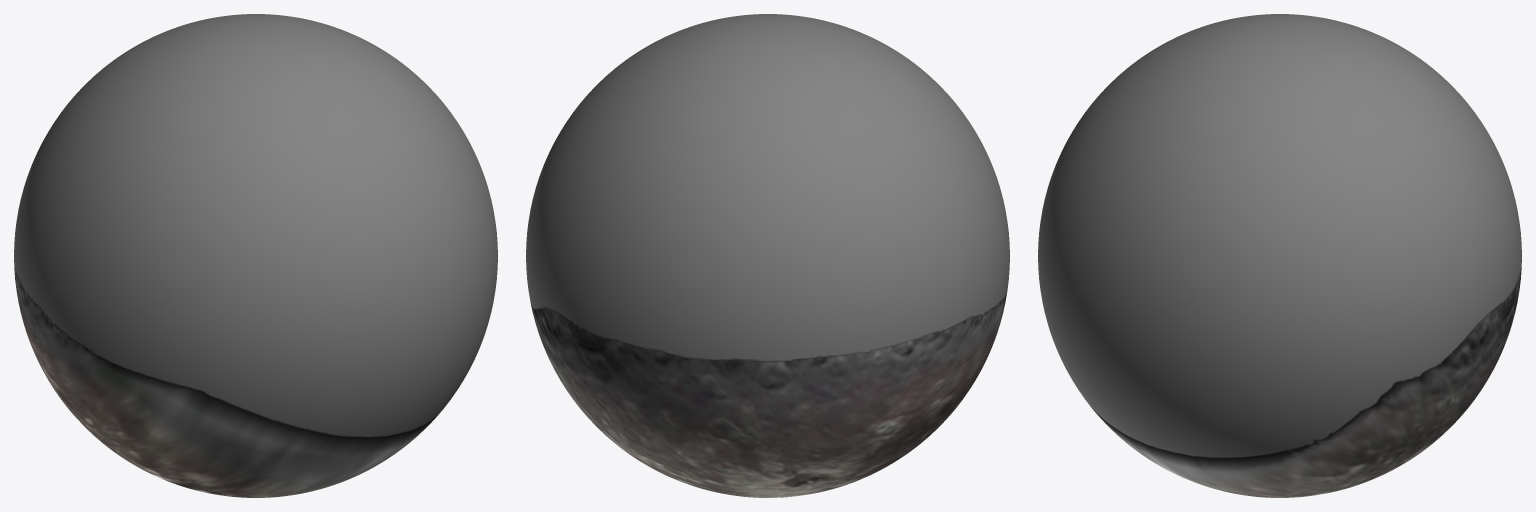
Rendered from Oberon.glb.
3 views of the same model, side by side, from view 1: azimuth 30°, elevation 25°; view 2: azimuth 150°, elevation 25°; view 3: azimuth 270°, elevation 25° (orthographic).
Parts seen in each view (by area): view 1: cylindrically_mapped_sphere; view 2: cylindrically_mapped_sphere; view 3: cylindrically_mapped_sphere.
Part boxes in pixels (x1,y1,x2,y2): cylindrically_mapped_sphere: (14,14,497,497); cylindrically_mapped_sphere: (526,14,1009,497); cylindrically_mapped_sphere: (1038,14,1521,497).
Size of the model in its own units: 1000 by 1000 by 1000.
Materials: 1 (1 with a texture image).
